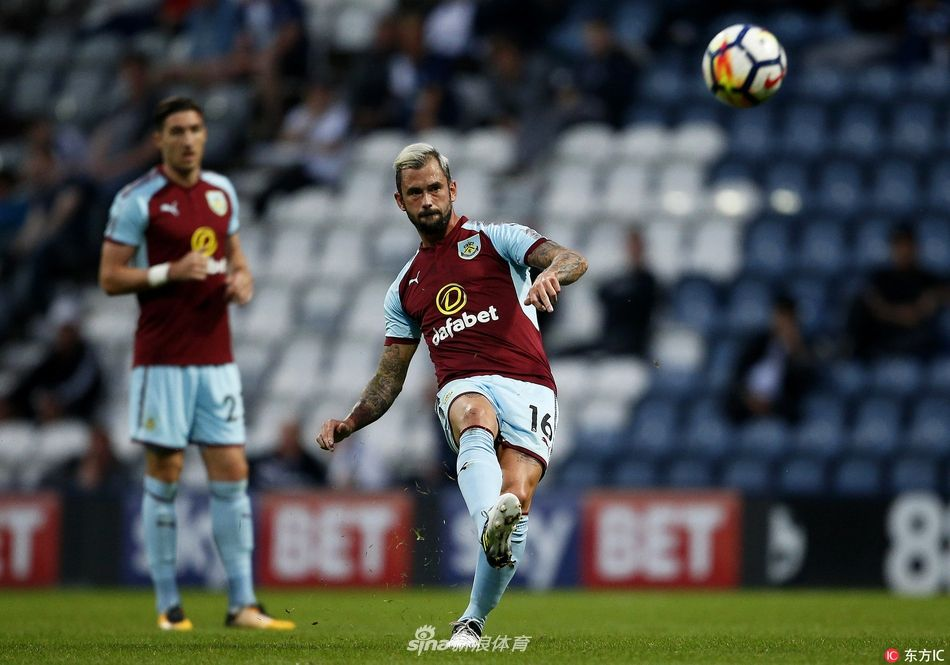football: (702, 24, 791, 109)
